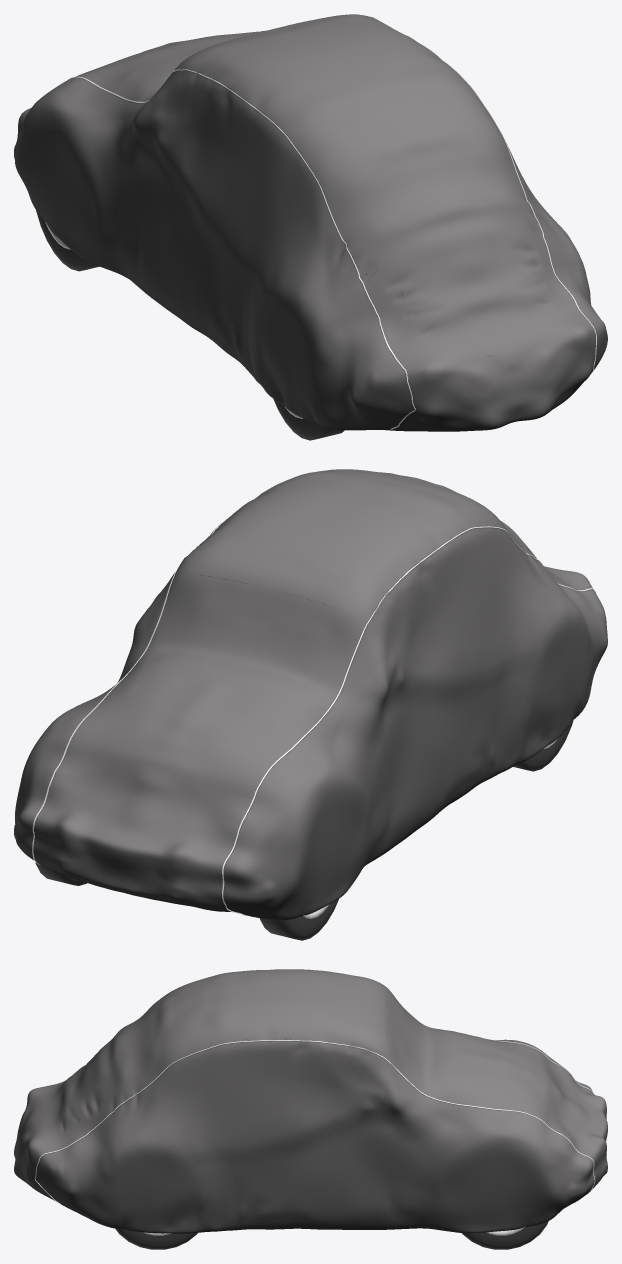
The model's file is fusca.glb.
The picture shows the model from 3 angles, top to bottom: view 1: azimuth 30°, elevation 25°; view 2: azimuth 150°, elevation 25°; view 3: azimuth 270°, elevation 25°; orthographic projection. The views are drawn at different scales.
Visible parts, largest first — view 1: CAPA, RODA, LINHA.001; view 2: CAPA, RODA, LINHA.001; view 3: CAPA, RODA, LINHA.001.
Boxes of the visible parts, bbox=[...] form: CAPA: bbox=[14, 14, 607, 431]; RODA: bbox=[36, 210, 344, 440]; LINHA.001: bbox=[67, 30, 596, 429]; CAPA: bbox=[14, 469, 607, 919]; RODA: bbox=[35, 721, 573, 940]; LINHA.001: bbox=[32, 490, 596, 915]; CAPA: bbox=[14, 969, 607, 1233]; RODA: bbox=[115, 1221, 548, 1249]; LINHA.001: bbox=[34, 1005, 595, 1204].
Size of the model in its own units: 5.76 by 5.64 by 14.15.
5 materials, 2 textured.
